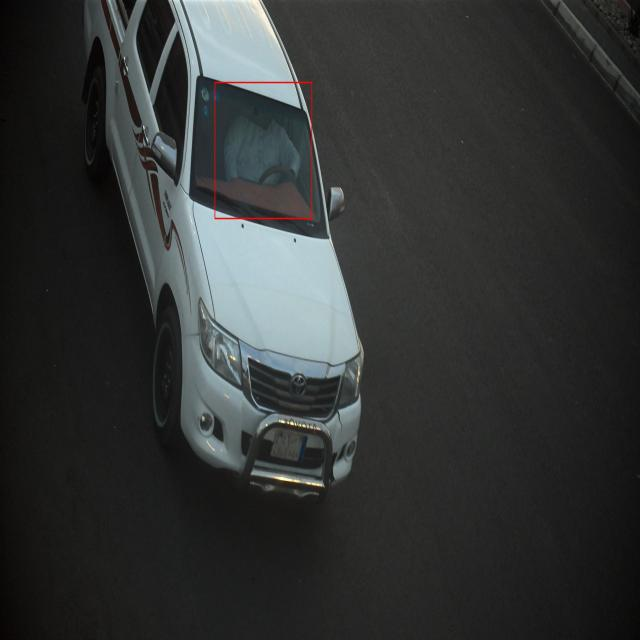windshield: (184, 64, 330, 244)
